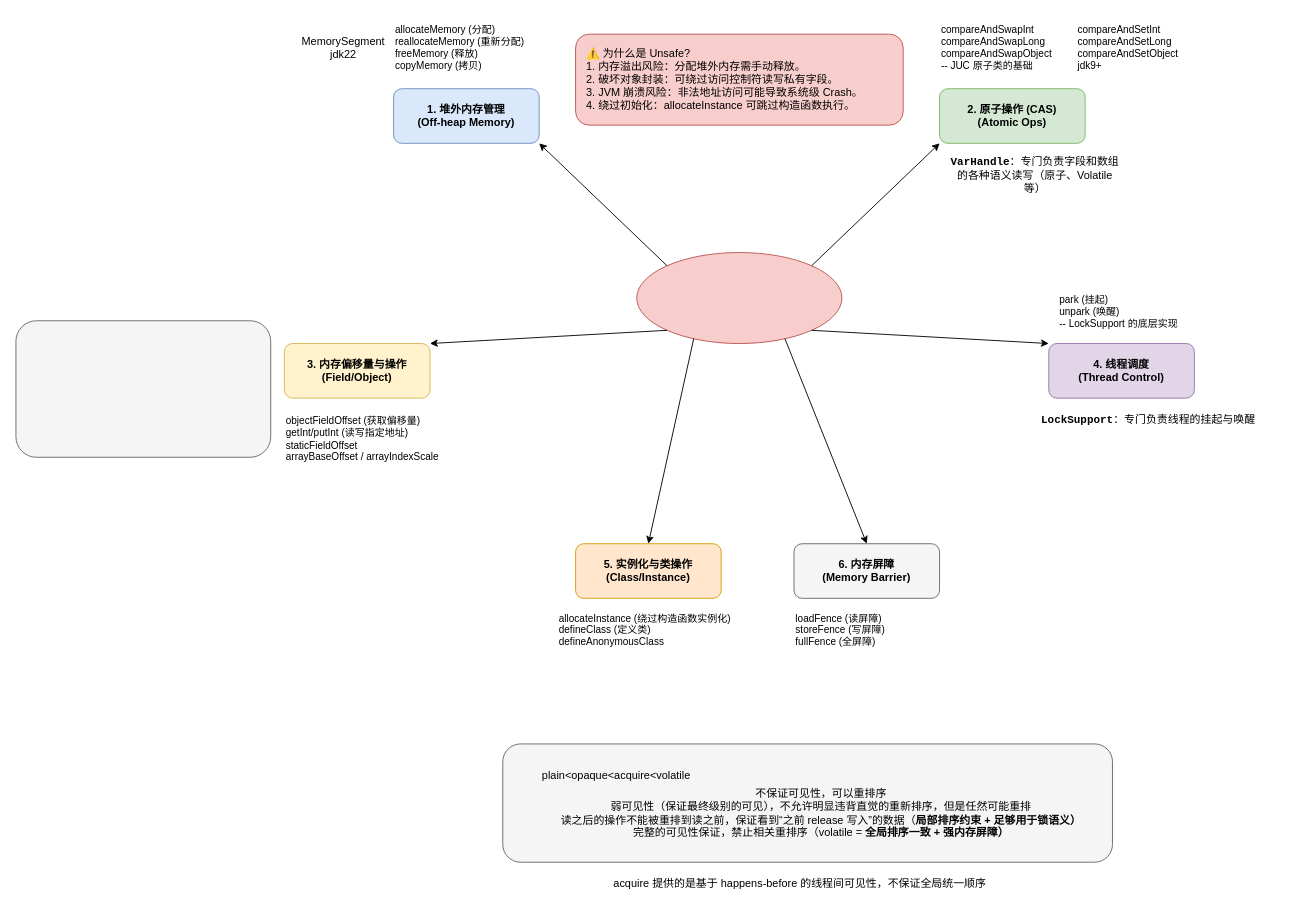
Some shapes in this 1301 by 923 pixel diagram are drawn without their labels. Each missing label, with the box of its shape:
sun.misc.Unsafe 核心功能 jdk.internal.misc(模块化）: (636, 252, 842, 344)
Unsafe.getReference 从某个对象的某个内存偏移位置，读取一个“引用类型字段”（Object reference）: (15, 320, 271, 457)
